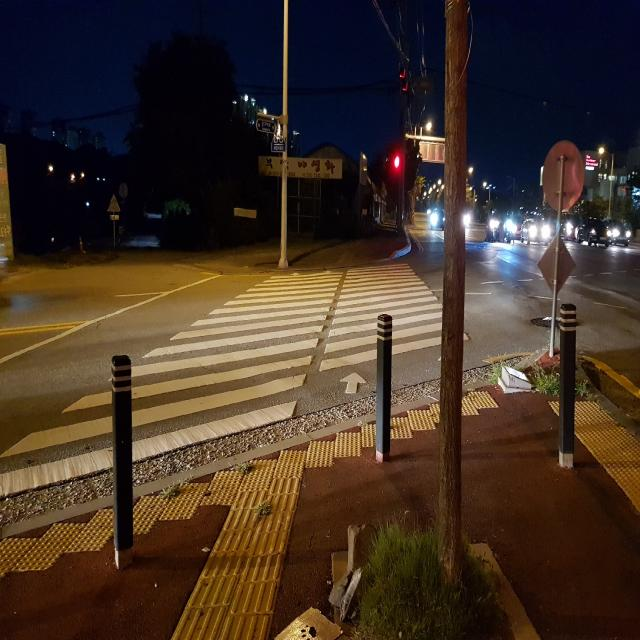빨간불: (394, 156, 400, 181)
횡단보도: (0, 264, 469, 498)
